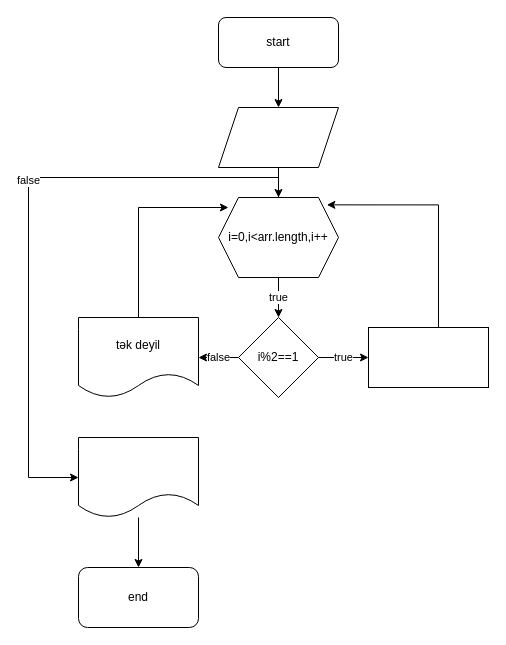
Image size: 506x645. Some labels were removed from this diagram. Each missing label, with the centre of its shape:
arr,sum=0: the point at 278,137
sum: the point at 138,477
sum+=i: the point at 428,357
